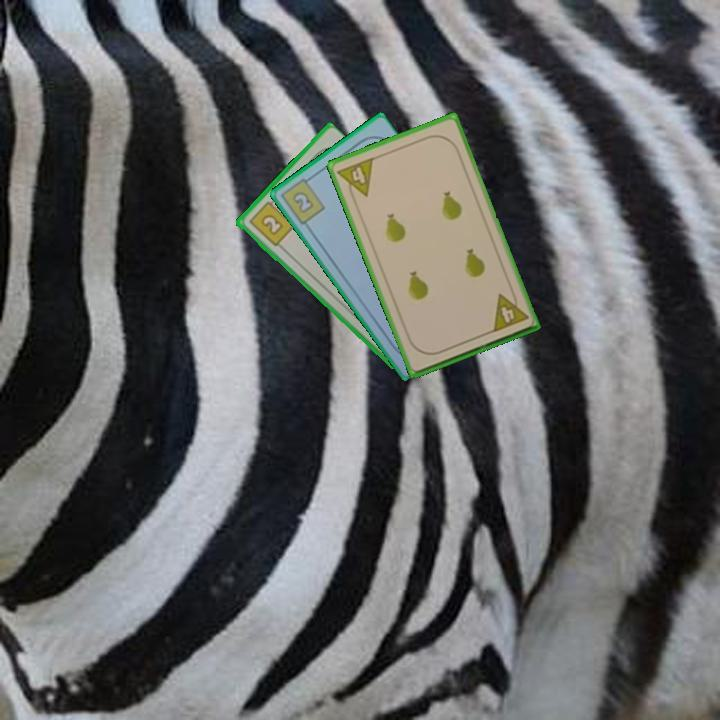2b: (277, 172, 328, 228), (245, 195, 297, 249)
4p: (488, 286, 531, 335), (334, 154, 376, 204)
